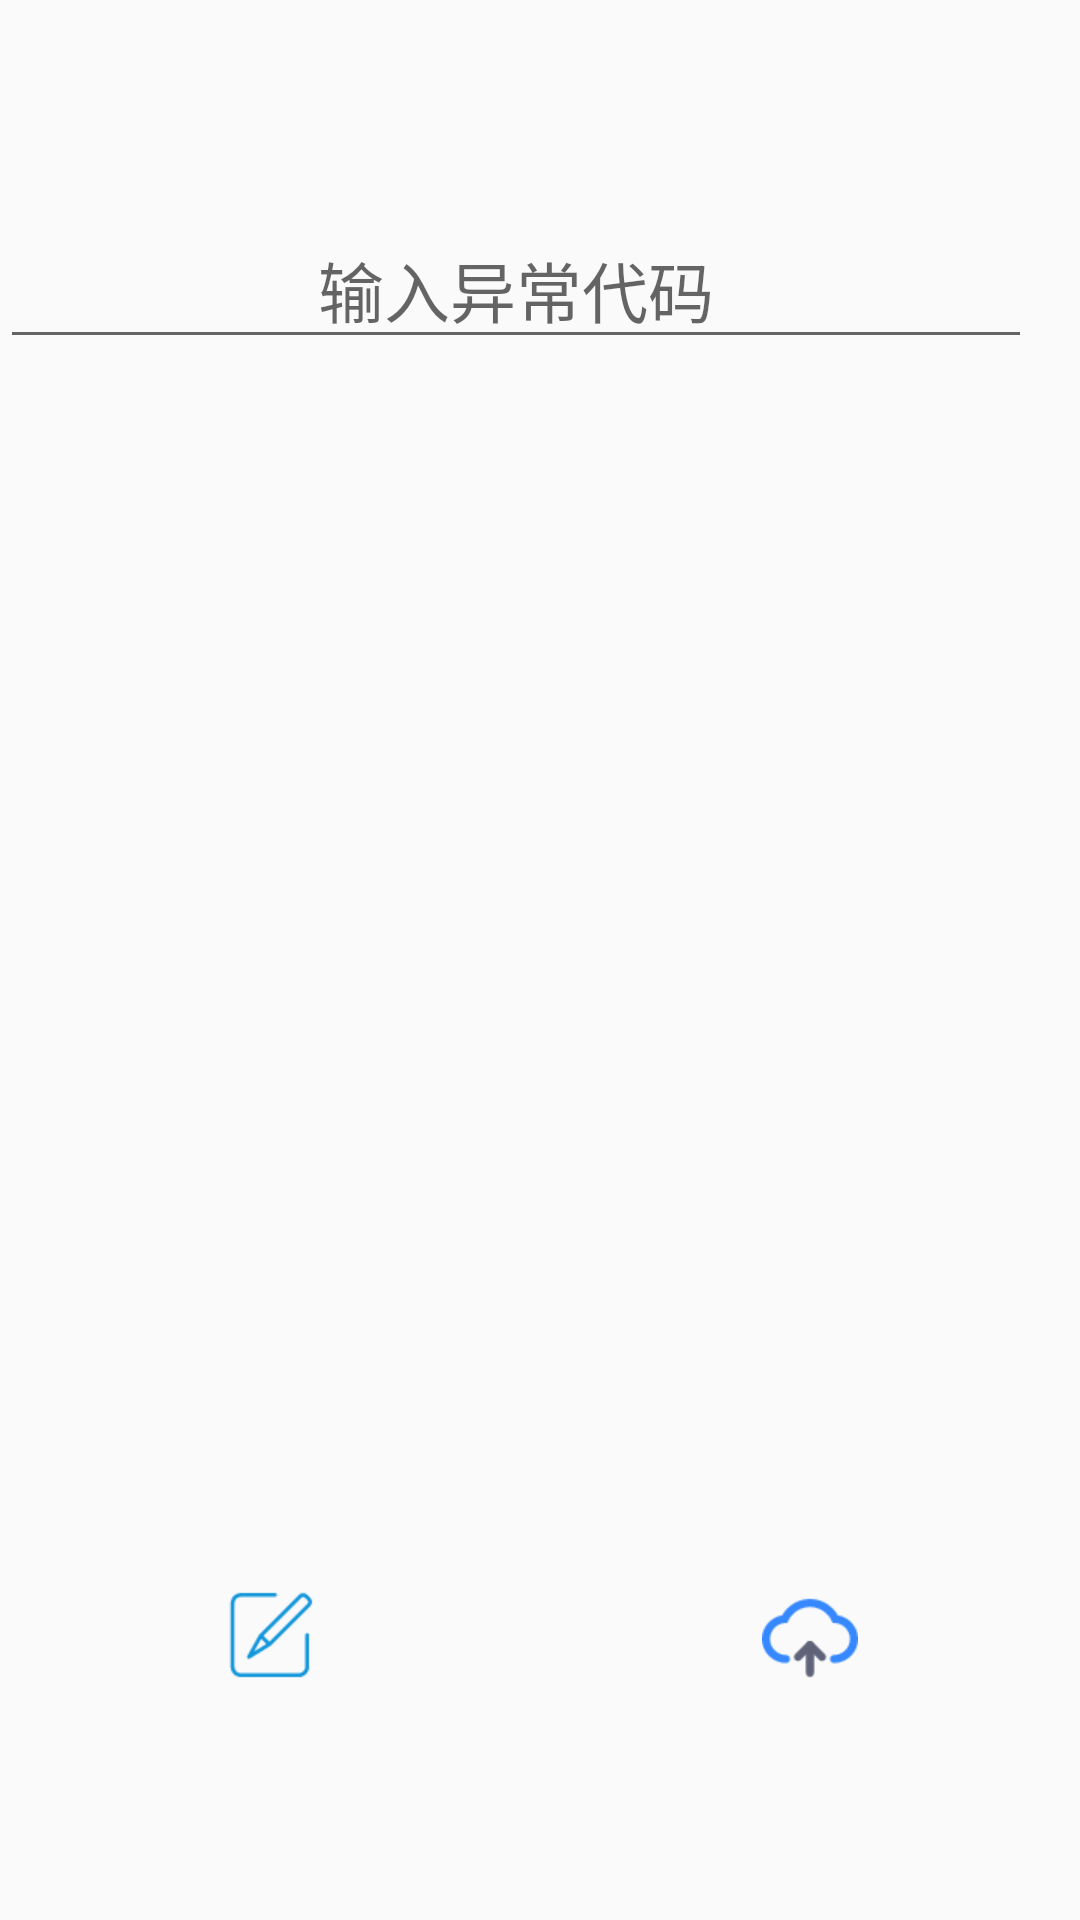

Named icons in this screenshot (1080*1920) and their bounding boxes, (x1, y1, x2, y2):
edit src: (229, 1592, 313, 1678)
upload src: (762, 1598, 858, 1677)
